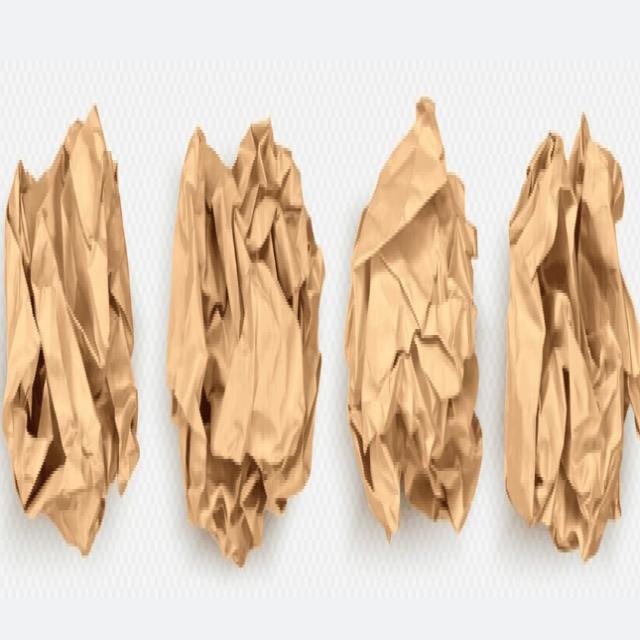KertasBekas: (165, 115, 325, 564), (1, 100, 140, 556), (344, 93, 484, 540), (503, 109, 639, 562)
